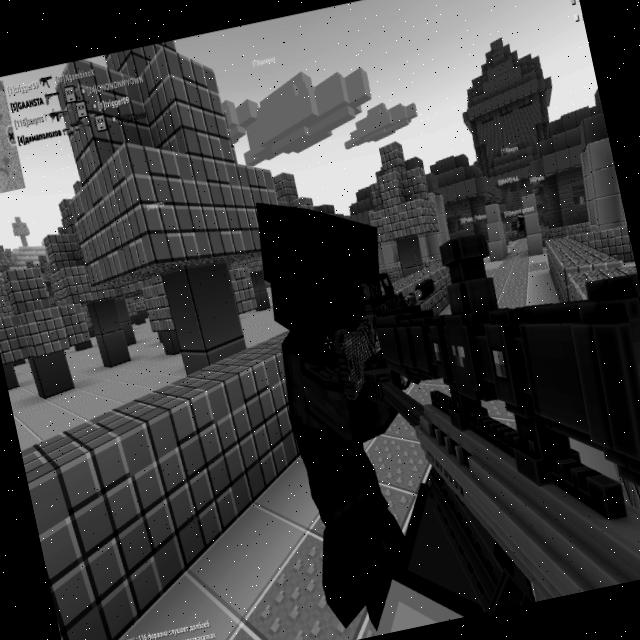Head: (250, 178, 397, 346), (514, 208, 524, 220)
Player: (240, 176, 461, 640), (514, 208, 527, 230)
